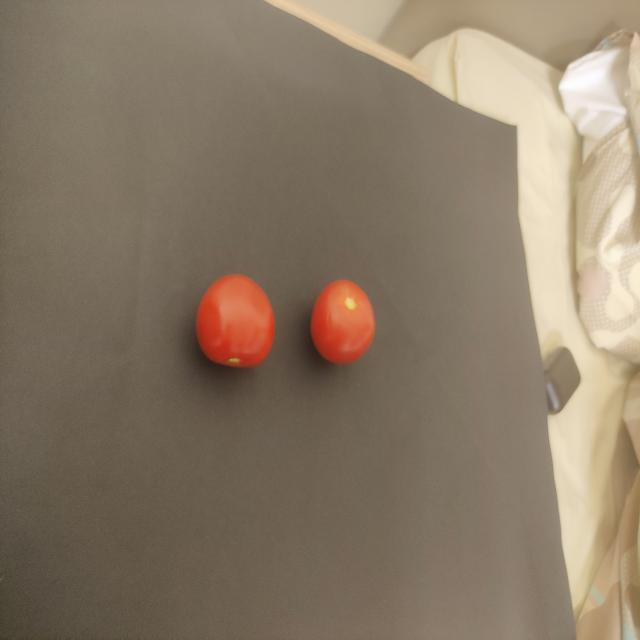kirmizi: (304, 228, 390, 402), (182, 254, 280, 391)
